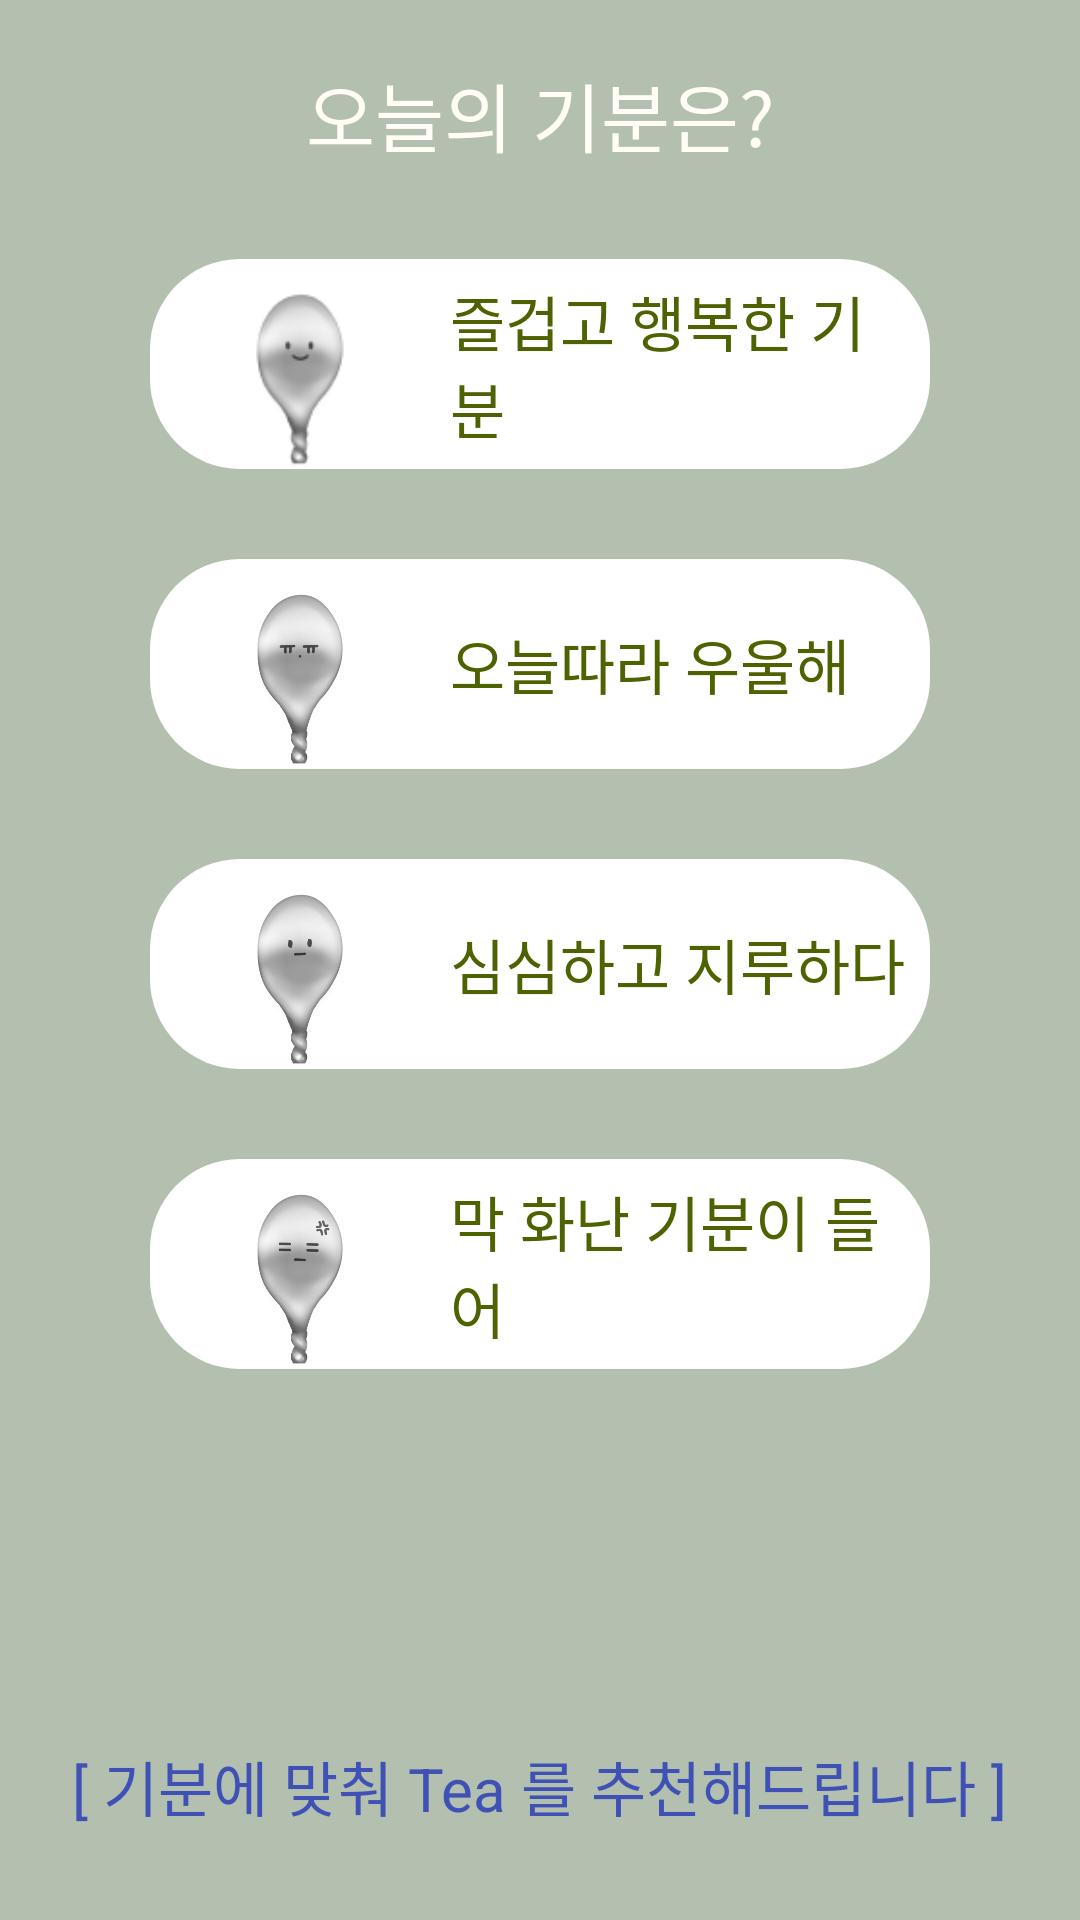

Icon bounding boxes for this 1080 x 1920 phone screenshot, format (x1, y1, x2, y2):
spoon bad: (257, 1195, 343, 1364)
spoon good: (256, 294, 343, 464)
spoon sad: (257, 595, 343, 764)
spoon soso: (257, 895, 343, 1064)
